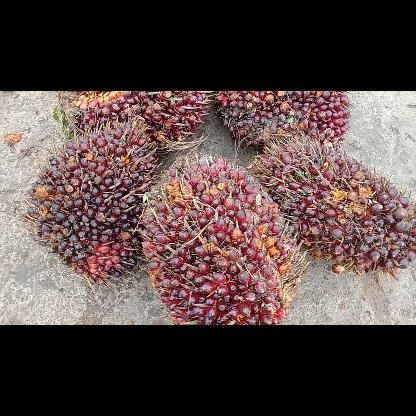Kurang masak: (137, 150, 311, 324), (244, 134, 416, 280), (21, 122, 161, 286), (50, 90, 216, 158), (212, 90, 352, 150)
